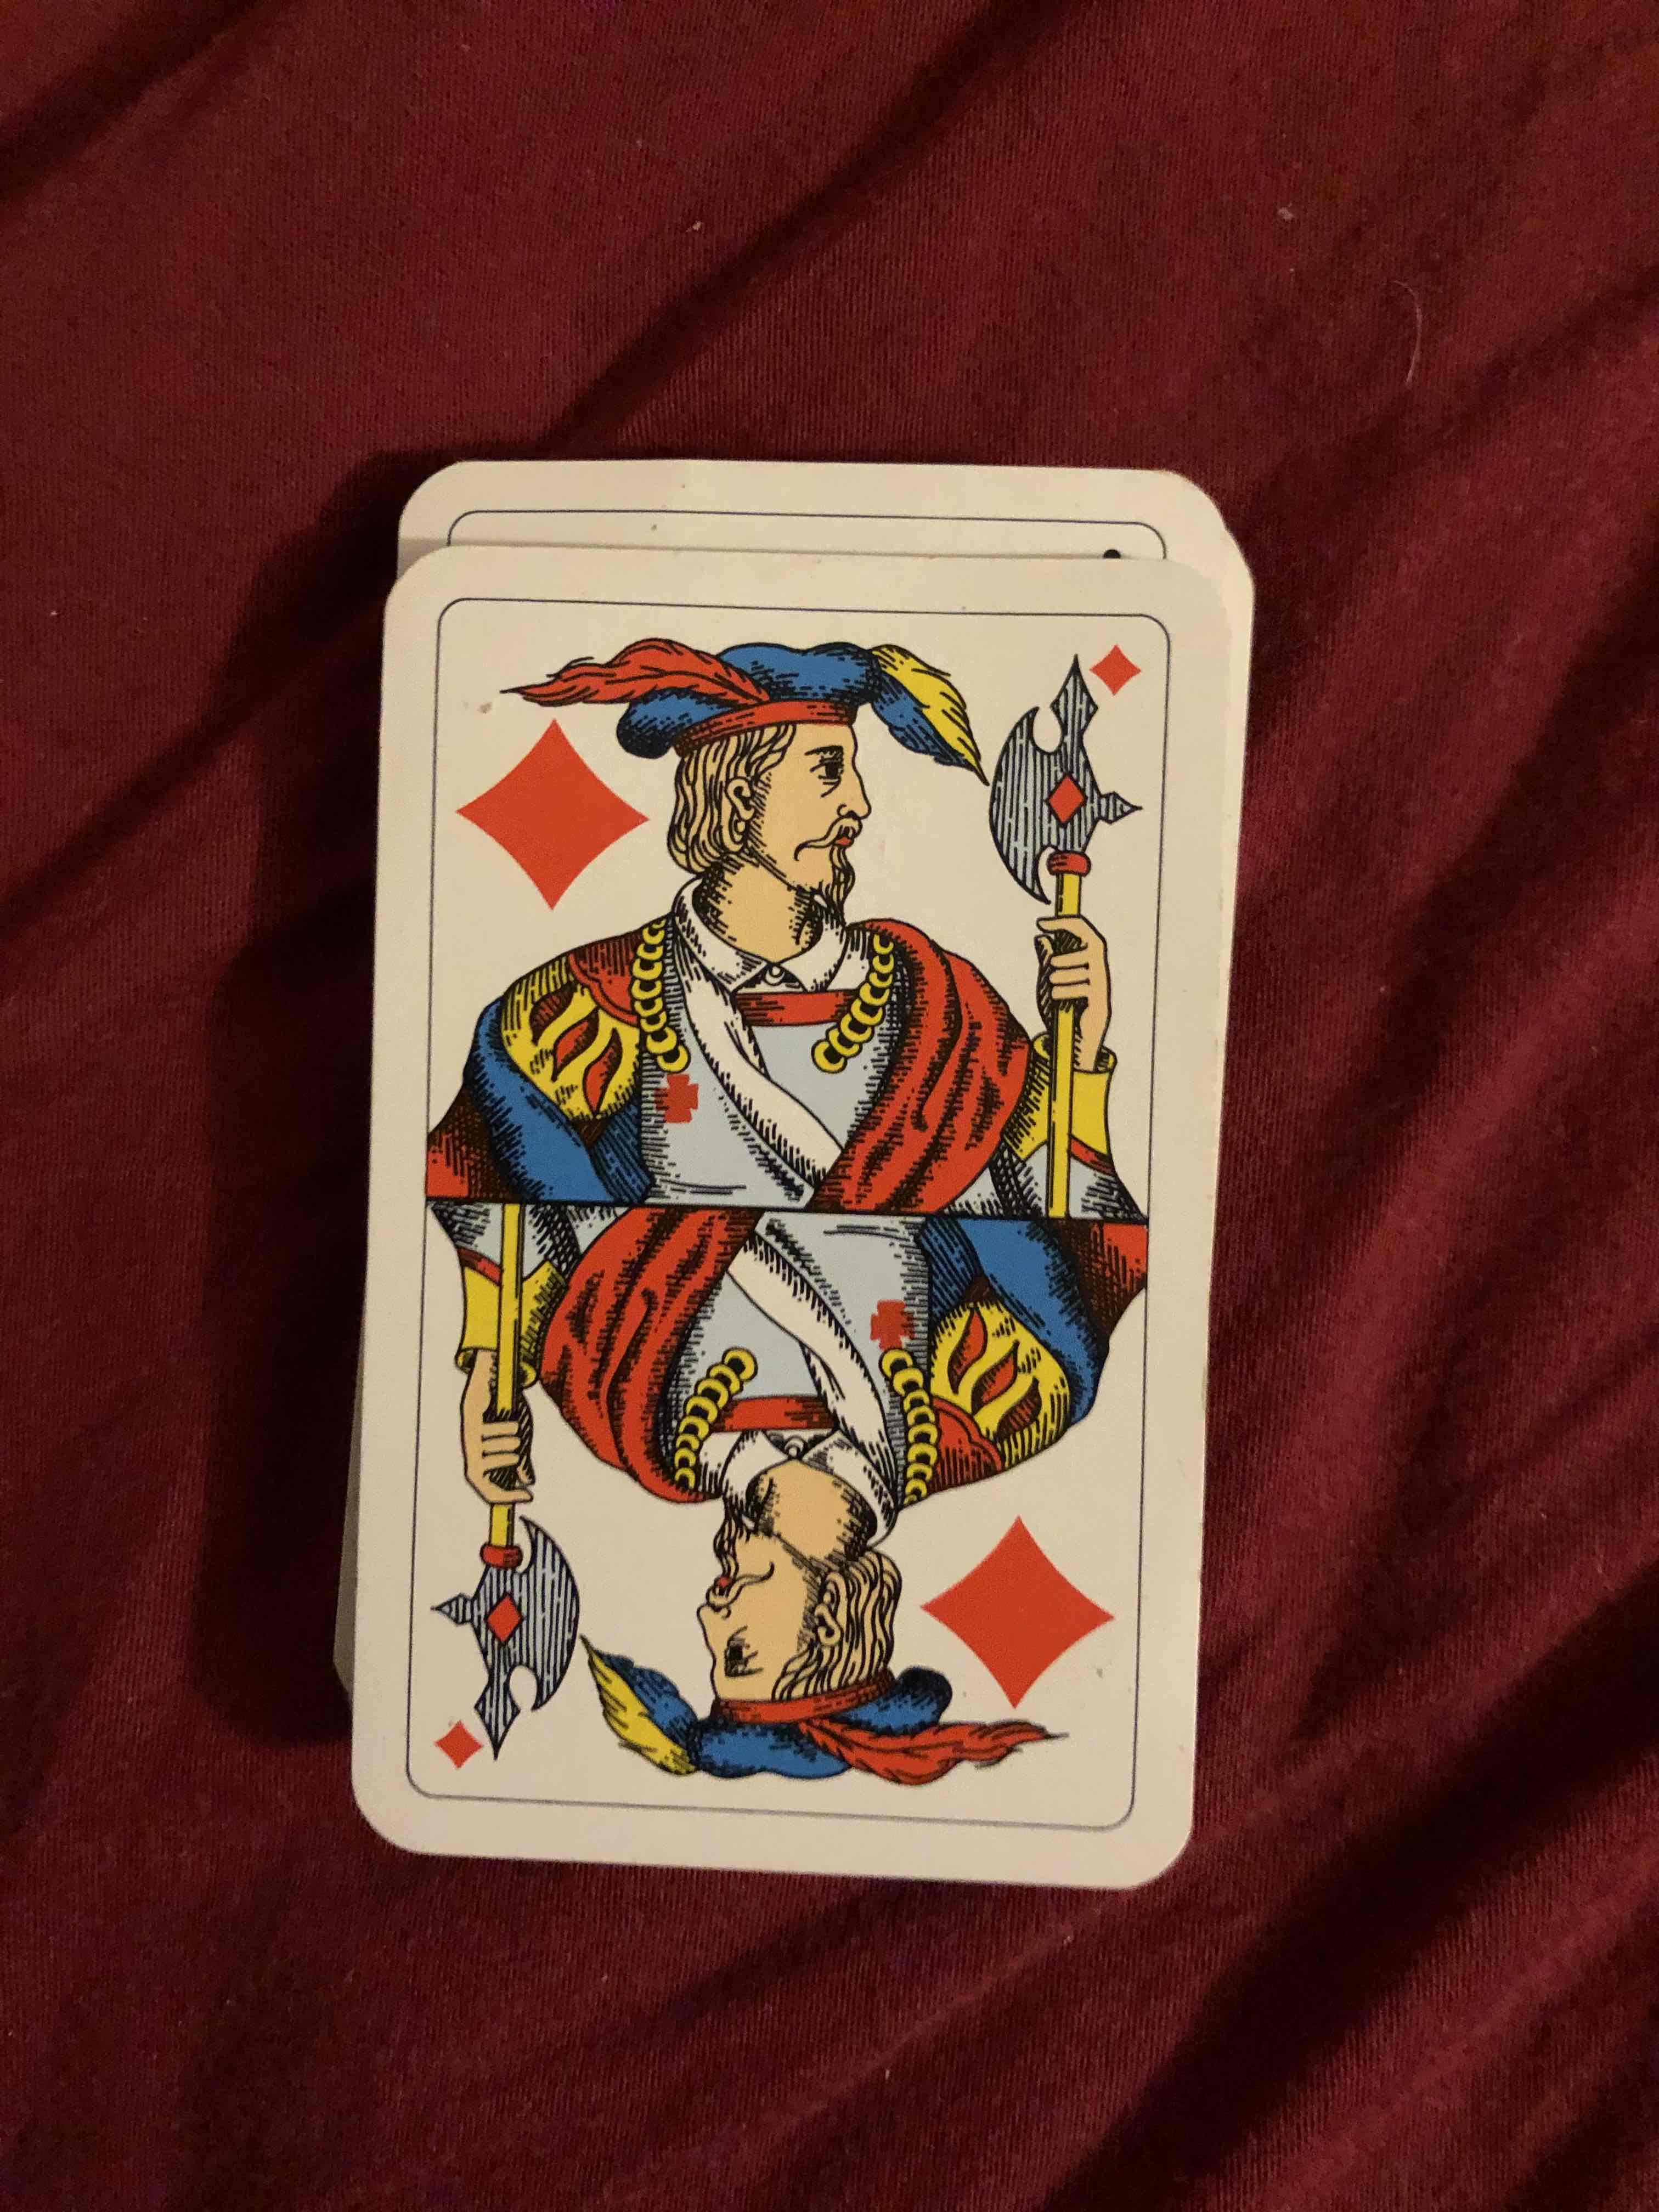diamondJack: (376, 543, 1190, 1858)
